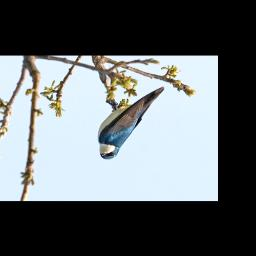Swallow: (94, 86, 168, 163)
